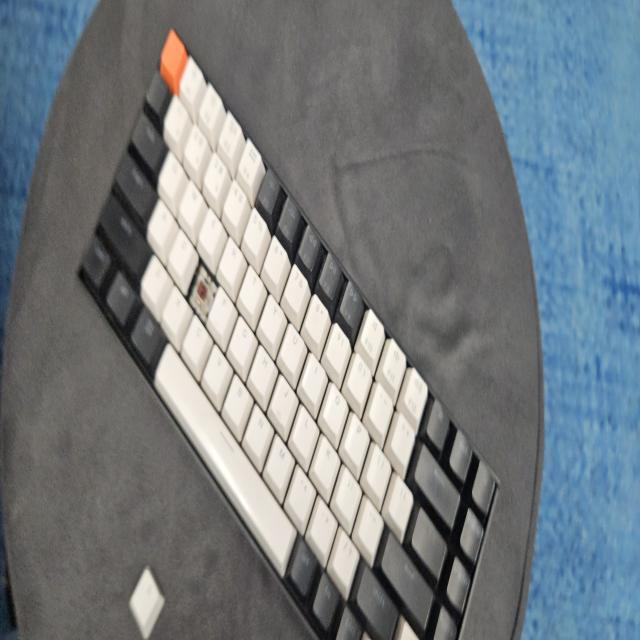C: (193, 276, 206, 308)
